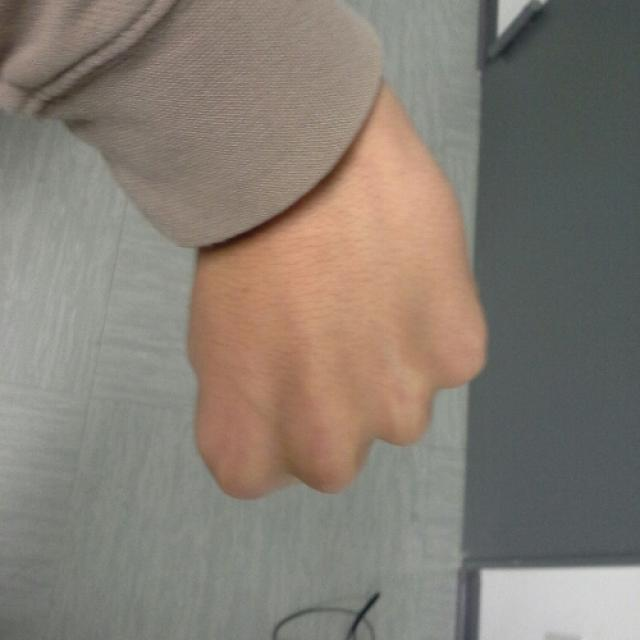rock: (188, 148, 486, 502)
